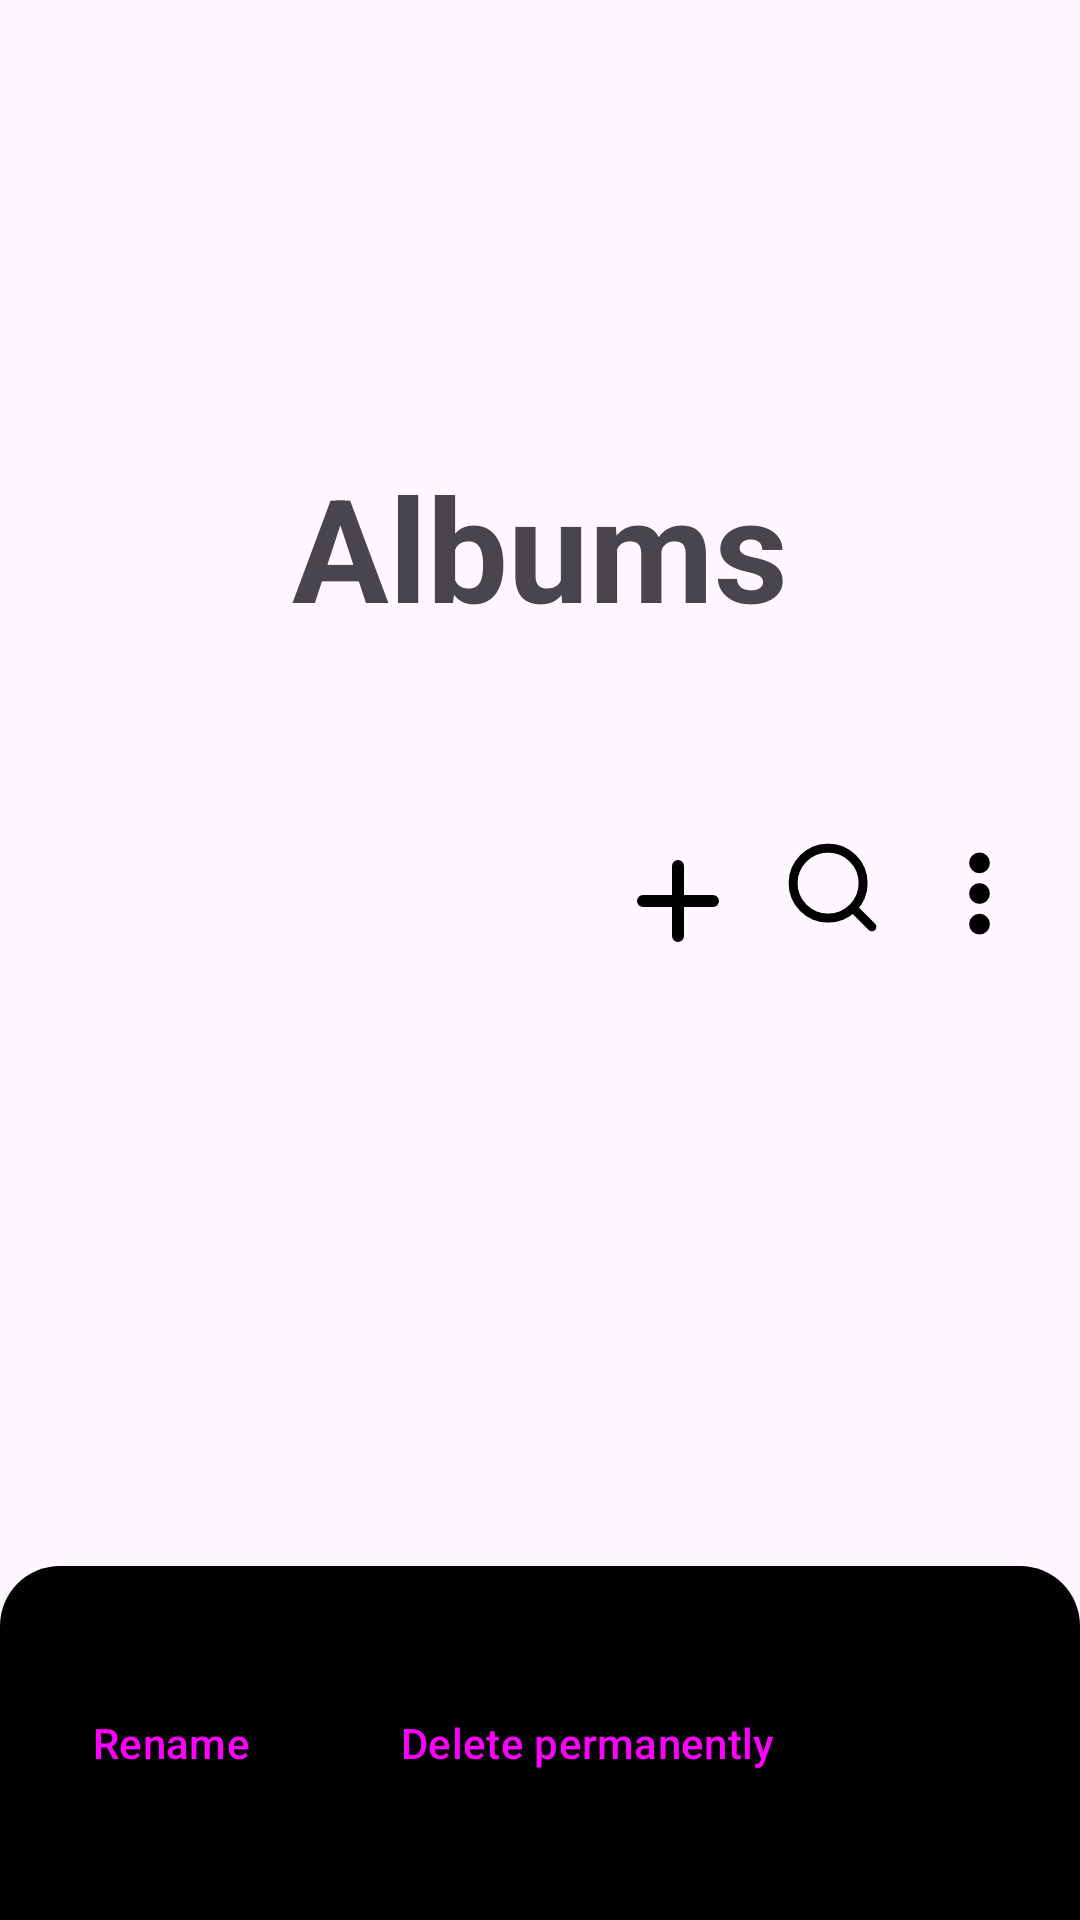

Locate icon controls on the screen. Image size 1080*1920, boxes as bbox=[x1, y1, x2, y2].
plus: bbox=[637, 860, 719, 942]
search: bbox=[788, 843, 877, 932]
